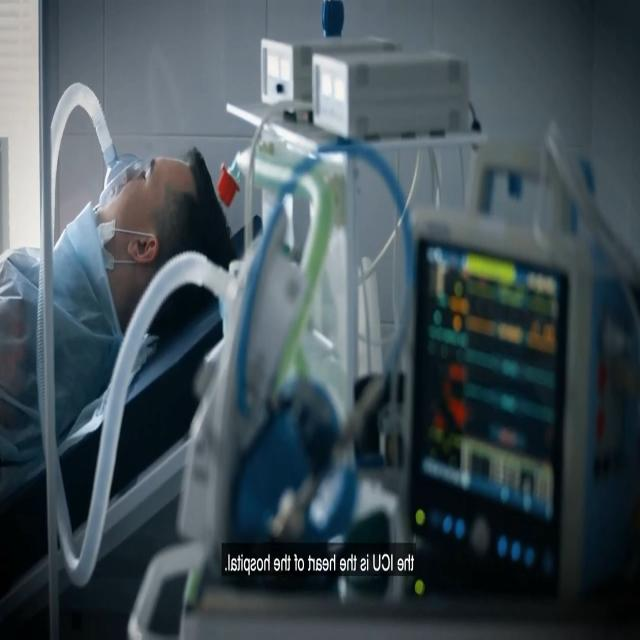Movement-NO: (64, 103, 232, 318)
